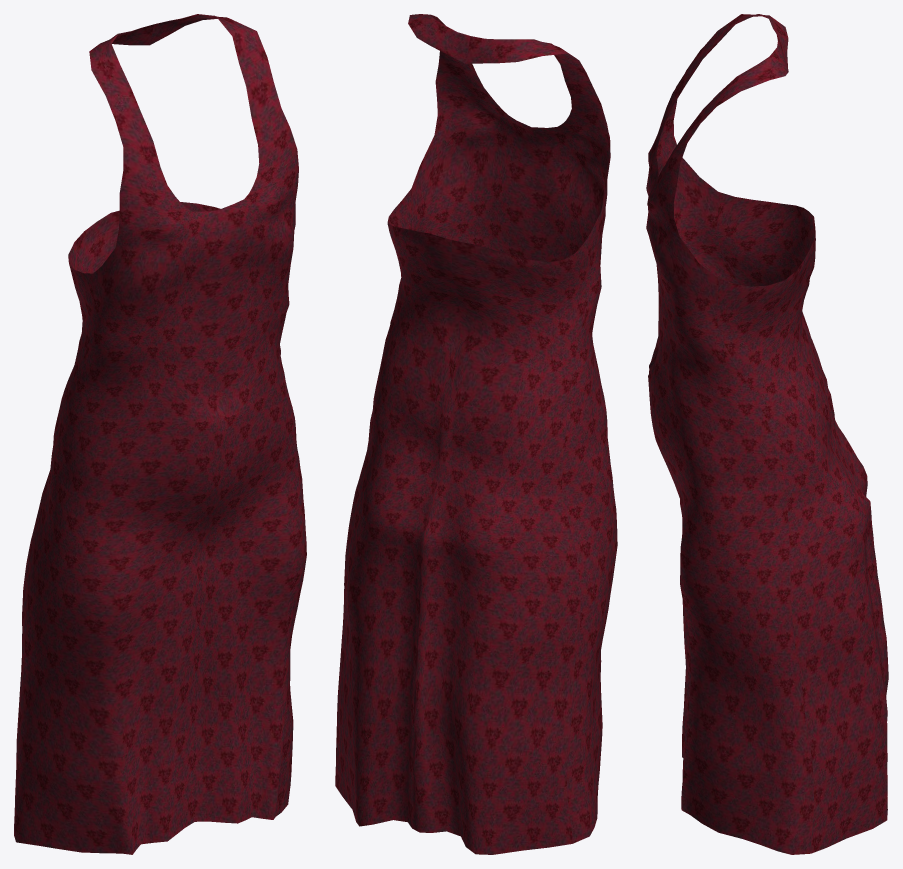
The model's file is dress_halter_midi.gltf.
3 views of the same model, side by side, from view 1: azimuth 30°, elevation 25°; view 2: azimuth 150°, elevation 25°; view 3: azimuth 270°, elevation 25° (orthographic). The views are drawn at different scales.
Parts seen in each view (by area): view 1: dress_halter_midi; view 2: dress_halter_midi; view 3: dress_halter_midi.
Boxes of the visible parts, left/top/right/bottom form: dress_halter_midi: left=14, top=14, right=306, bottom=854; dress_halter_midi: left=335, top=14, right=617, bottom=854; dress_halter_midi: left=646, top=14, right=888, bottom=854.
Size of the model in its own units: 0.4022 by 1.17 by 0.3386.
Materials: 1 (1 with a texture image).
